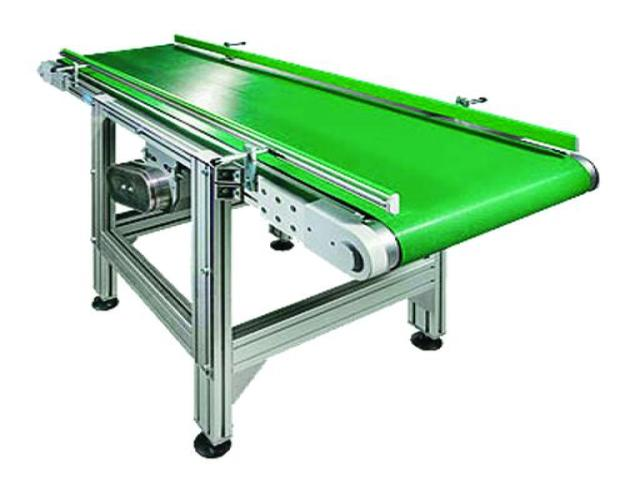conveyor: (34, 32, 601, 459)
